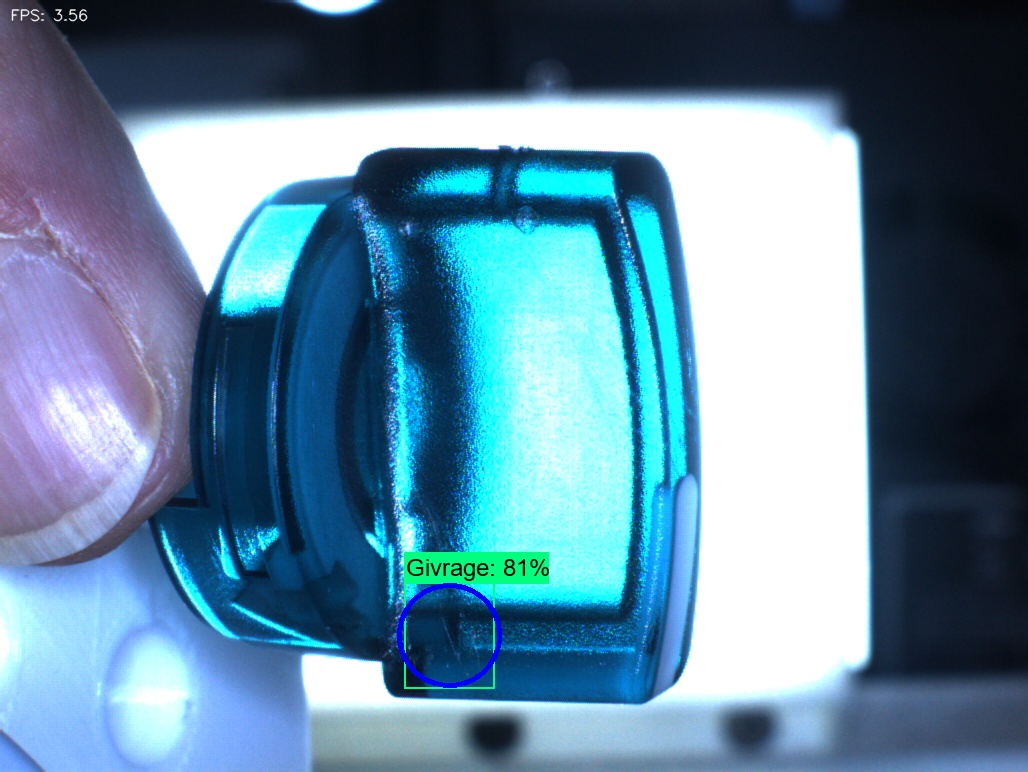Bulle: (479, 165, 578, 276)
